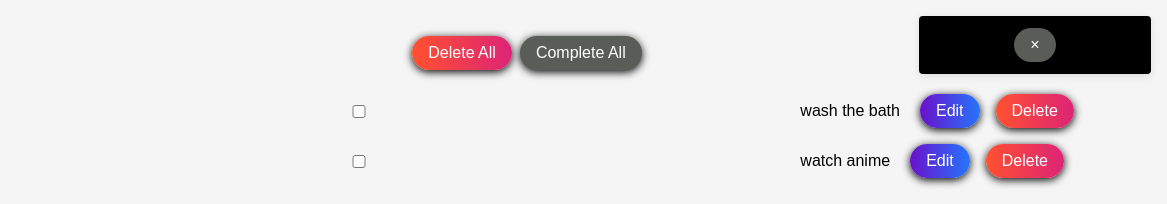
Editing a todo- client side validation › User cancels editing; the todo returns to its previous state
Click the button "Edit" next to "wash the bath": (950, 111) [920,94,980,128]
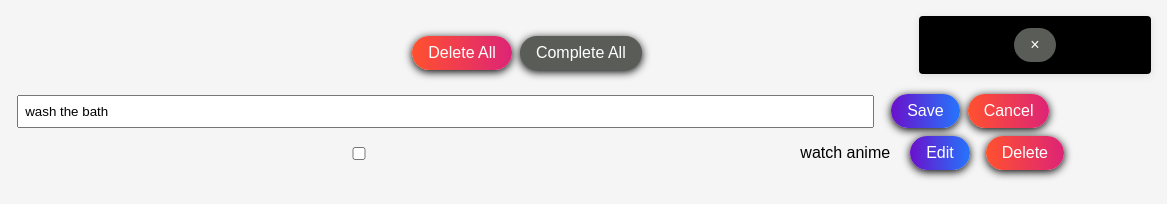
Expected: the field is shown, [16,95,874,128]
Result: the button "Cancel" is shown
Click the button "Cancel": (1008, 111) [968,94,1049,128]
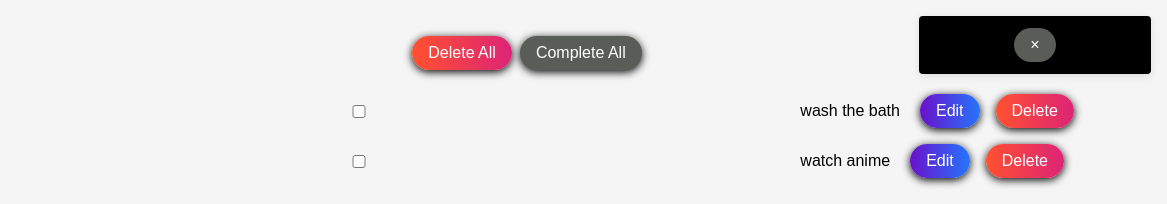
Result: the field is gone
